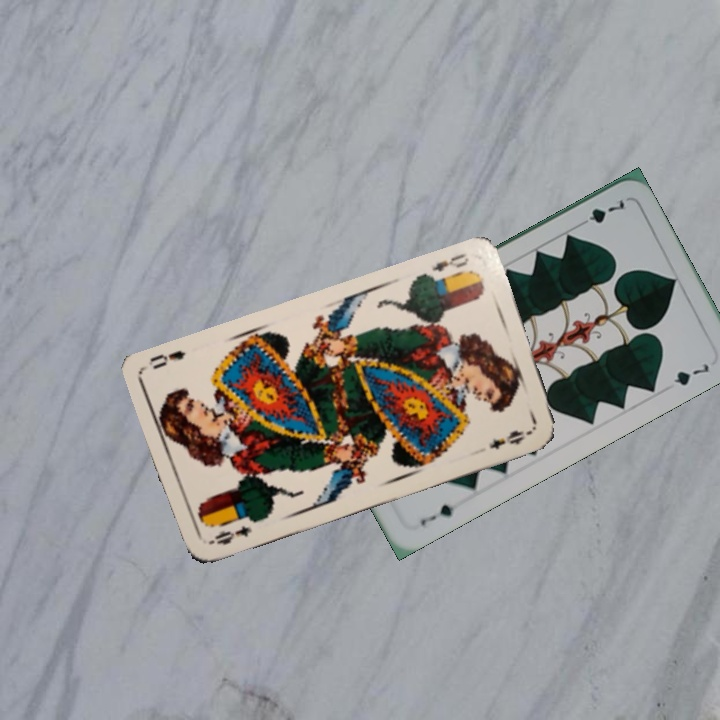EO: (204, 521, 255, 548), (428, 249, 471, 275)
G7: (573, 195, 630, 230), (416, 500, 457, 529)
